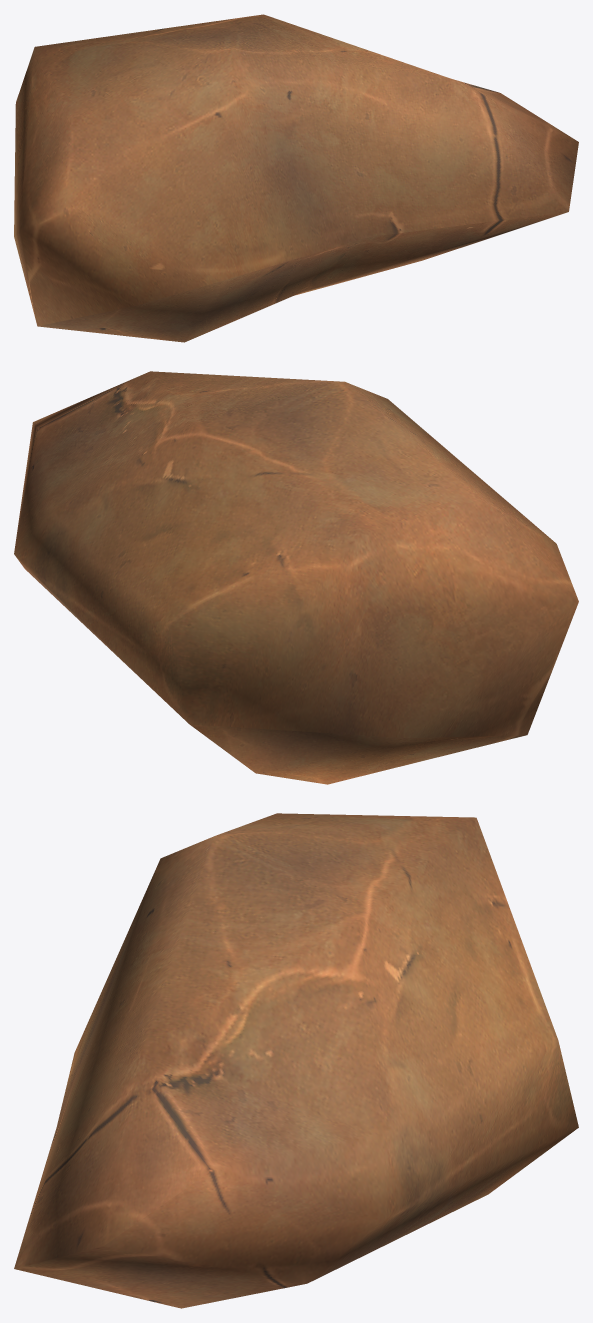
File: SmallRock3.fbx
The picture shows the model from 3 angles, top to bottom: view 1: azimuth 30°, elevation 25°; view 2: azimuth 150°, elevation 25°; view 3: azimuth 270°, elevation 25°; orthographic projection. The views are drawn at different scales.
Parts seen in each view (by area): view 1: SmallRock3; view 2: SmallRock3; view 3: SmallRock3.
Boxes of the visible parts, x1=… form: SmallRock3: x1=14, y1=14, x2=578, y2=342; SmallRock3: x1=14, y1=371, x2=578, y2=784; SmallRock3: x1=14, y1=813, x2=578, y2=1308.
Bounding box in the file's own units: 42.97 × 24.55 × 28.78.
